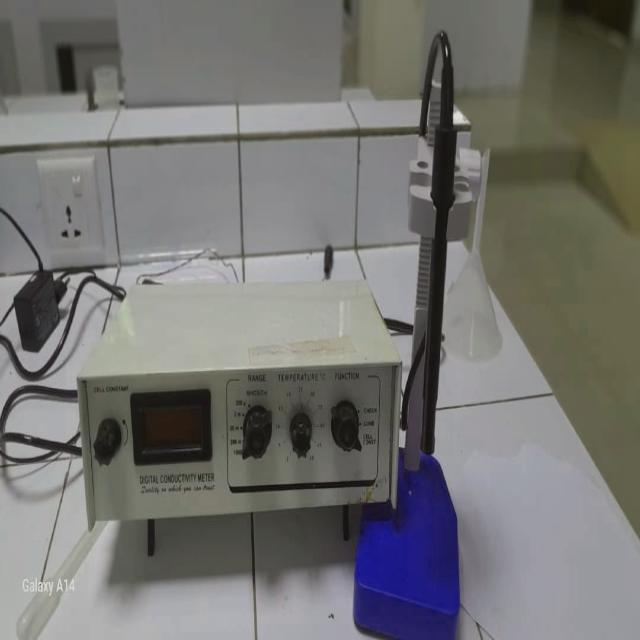Conductivity Meter: (74, 310, 472, 533)
